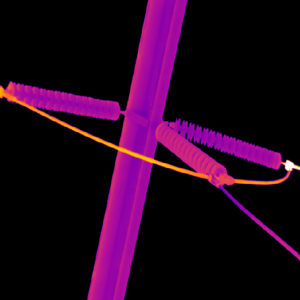insulator: (171, 112, 281, 172), (4, 80, 121, 121), (154, 121, 228, 185)
